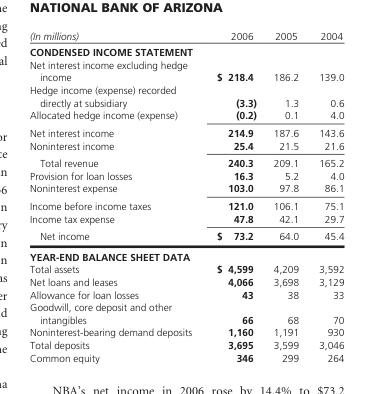table: (29, 29, 343, 363)
table column: (29, 29, 203, 363), (203, 29, 264, 363), (264, 29, 308, 363), (308, 29, 343, 363)
table column header: (29, 29, 343, 43)
table projected row header: (29, 246, 343, 262), (29, 43, 343, 58)
table row: (29, 58, 343, 83), (29, 83, 343, 108), (29, 300, 343, 325), (29, 227, 343, 246), (29, 153, 343, 169), (29, 196, 343, 212), (29, 246, 343, 262), (29, 43, 343, 58), (29, 108, 343, 123), (29, 123, 343, 138), (29, 138, 343, 153), (29, 181, 343, 196), (29, 212, 343, 227), (29, 29, 343, 43), (29, 262, 343, 275), (29, 287, 343, 300), (29, 325, 343, 338), (29, 350, 343, 363), (29, 169, 343, 181), (29, 275, 343, 287), (29, 338, 343, 350)
